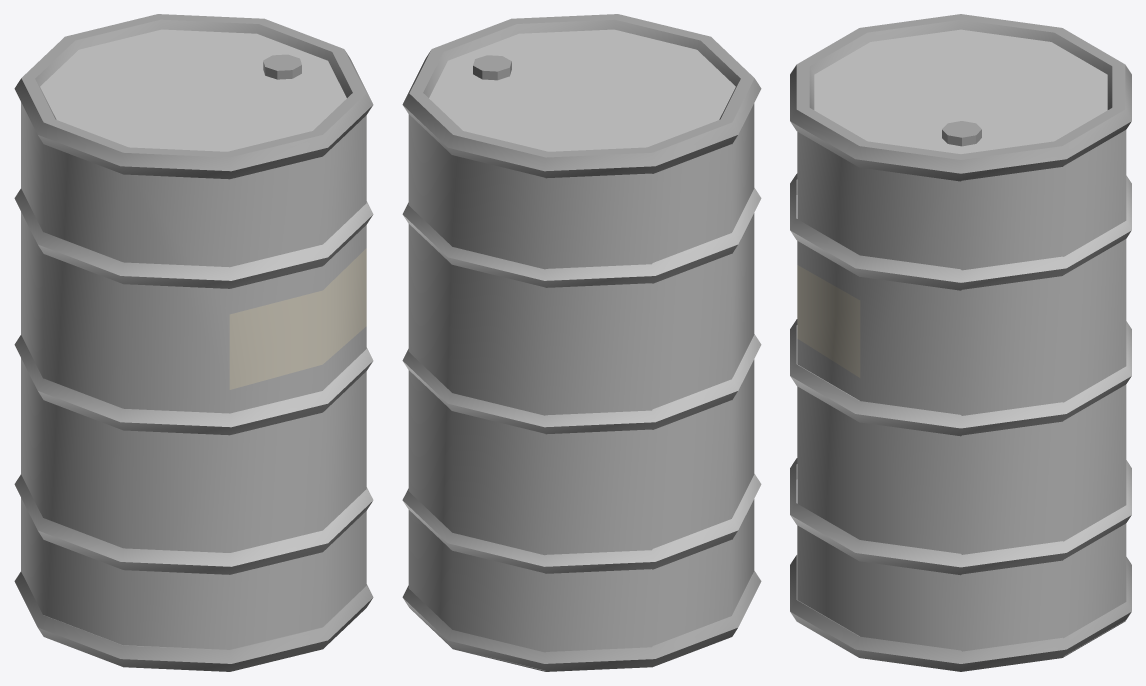
File: props6.fbx
3 renders of one model, left to right at view 1: azimuth 30°, elevation 25°; view 2: azimuth 150°, elevation 25°; view 3: azimuth 270°, elevation 25°, orthographic.
Parts seen in each view (by area): view 1: Torus_5; view 2: Torus_5; view 3: Torus_5.
Part boxes in pixels (box(x1,y1,x2,y2)): Torus_5: box(14, 14, 373, 671); Torus_5: box(402, 14, 761, 671); Torus_5: box(790, 14, 1131, 671).
Size of the model in its own units: 84.26 by 133 by 80.14.
